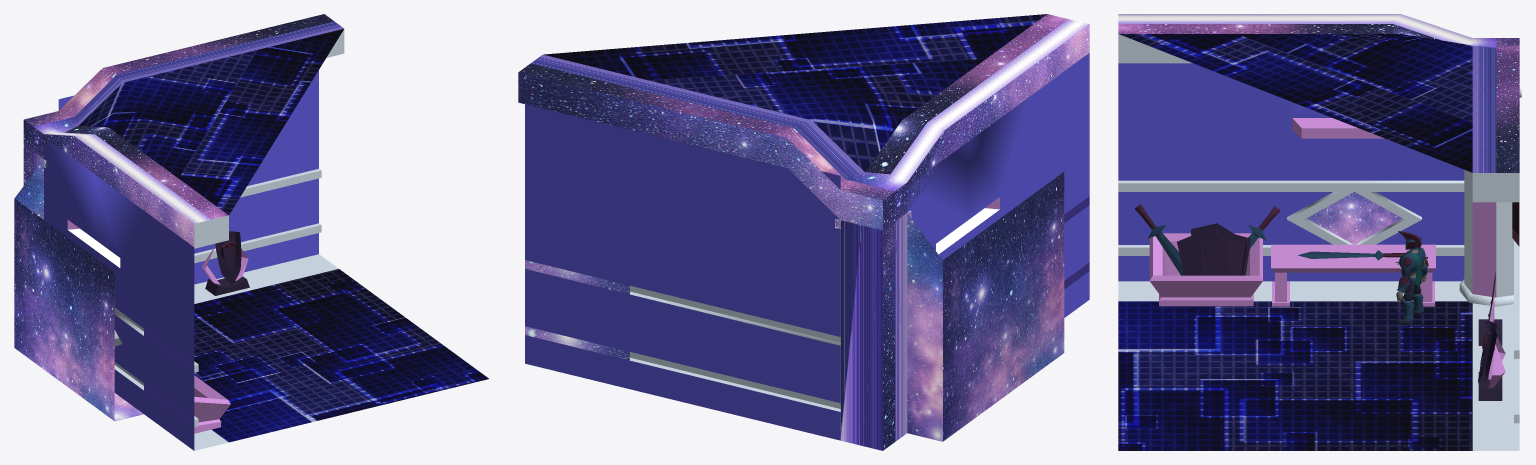
3 views of the same model, side by side, from view 1: azimuth 30°, elevation 25°; view 2: azimuth 150°, elevation 25°; view 3: azimuth 270°, elevation 25° (orthographic). The views are drawn at different scales.
Visible parts, largest first — view 1: Escenario, Contenedor, Escudo, Stands; view 2: Escenario; view 3: Escenario, Contenedor, Mesa, Escudo3, Stands, Escudo1, Espadacont, Escudo, Espadatrab, Cube.
Part boxes in pixels (x1,y1,x2,y2): Escenario: [14, 14, 488, 450]; Contenedor: [194, 375, 230, 433]; Escudo: [215, 231, 241, 285]; Stands: [201, 246, 249, 295]; Escenario: [518, 14, 1089, 450]; Escenario: [1118, 14, 1521, 450]; Contenedor: [1149, 233, 1262, 306]; Mesa: [1271, 244, 1435, 306]; Escudo3: [1203, 232, 1250, 275]; Stands: [1478, 291, 1505, 400]; Escudo1: [1177, 231, 1216, 275]; Espadacont: [1135, 204, 1184, 275]; Escudo: [1478, 321, 1497, 383]; Espadatrab: [1298, 250, 1404, 260]; Cube: [1395, 248, 1426, 325].
Bounding box in the file's own units: 9.5 × 6.58 × 8.54.
42 materials, 2 textured.
